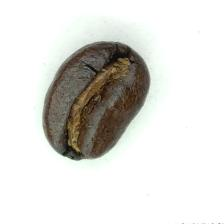NG: (60, 49, 132, 155)
